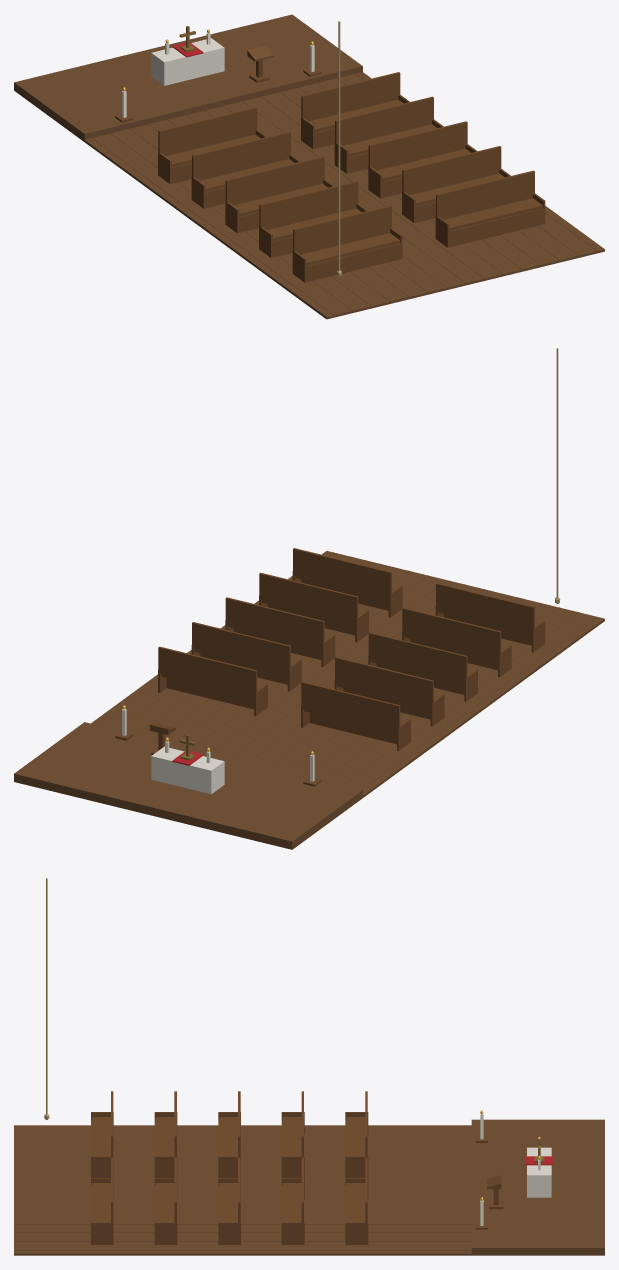
File: church_interior.fbx
3 views of the same model, one above another, from view 1: azimuth 30°, elevation 25°; view 2: azimuth 150°, elevation 25°; view 3: azimuth 270°, elevation 25° (orthographic). The views are drawn at different scales.
Visible parts, largest first — view 1: Church_Pew, Church_Floor, Church_Altar, Church_Rope; view 2: Church_Floor, Church_Pew, Church_Altar, Church_Rope; view 3: Church_Floor, Church_Pew, Church_Altar.
Part boxes in pixels (left/top/right/bottom): Church_Pew: left=115, top=46, right=545, bottom=282; Church_Floor: left=14, top=14, right=604, bottom=319; Church_Altar: left=151, top=38, right=224, bottom=85; Church_Rope: left=336, top=21, right=341, bottom=277; Church_Floor: left=14, top=551, right=604, bottom=849; Church_Pew: left=115, top=548, right=545, bottom=786; Church_Altar: left=151, top=746, right=224, bottom=794; Church_Rope: left=555, top=348, right=560, bottom=603; Church_Floor: left=14, top=1119, right=604, bottom=1255; Church_Pew: left=91, top=1091, right=503, bottom=1244; Church_Altar: left=527, top=1147, right=551, bottom=1197.
Bounding box in the file's own units: 29.6 × 28.24 × 57.6.
